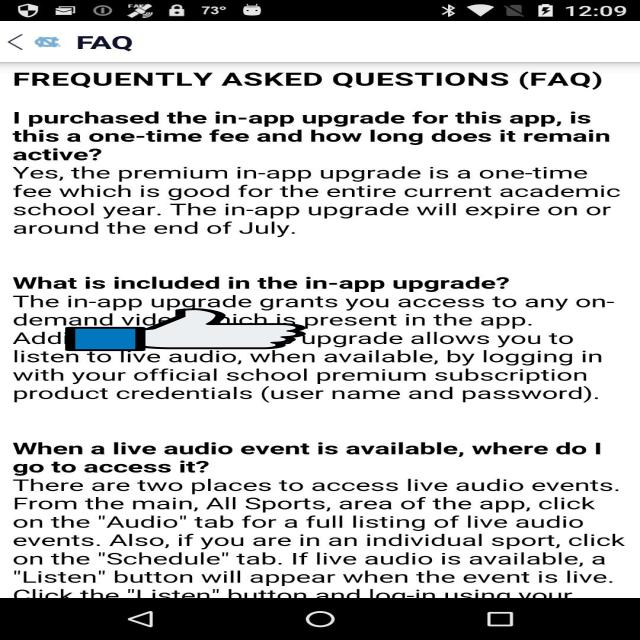privacy zuckering: (65, 307, 306, 352)
